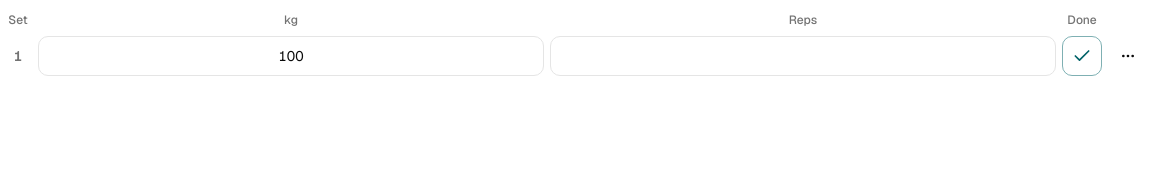
Test case: SetList › refuses to log a set without reps and says why
Click the button named "Set 1 done" at (1082, 56), box [1062, 36, 1102, 76]
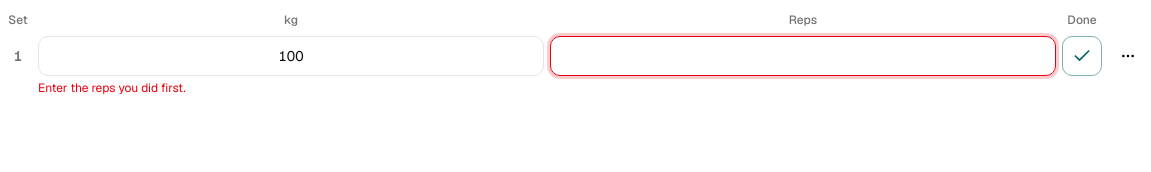
Now the message reads "Enter the reps you did first.", box [38, 80, 186, 96]
